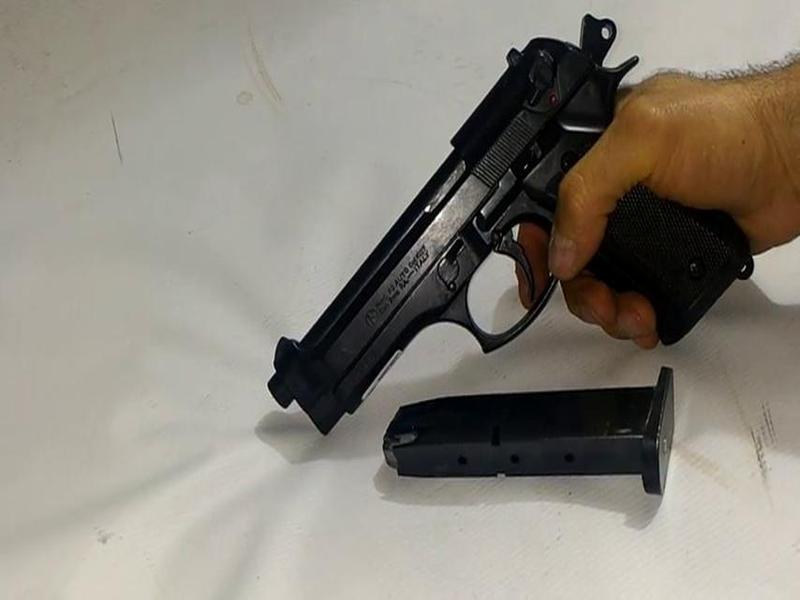Pistola: (244, 5, 760, 434)
